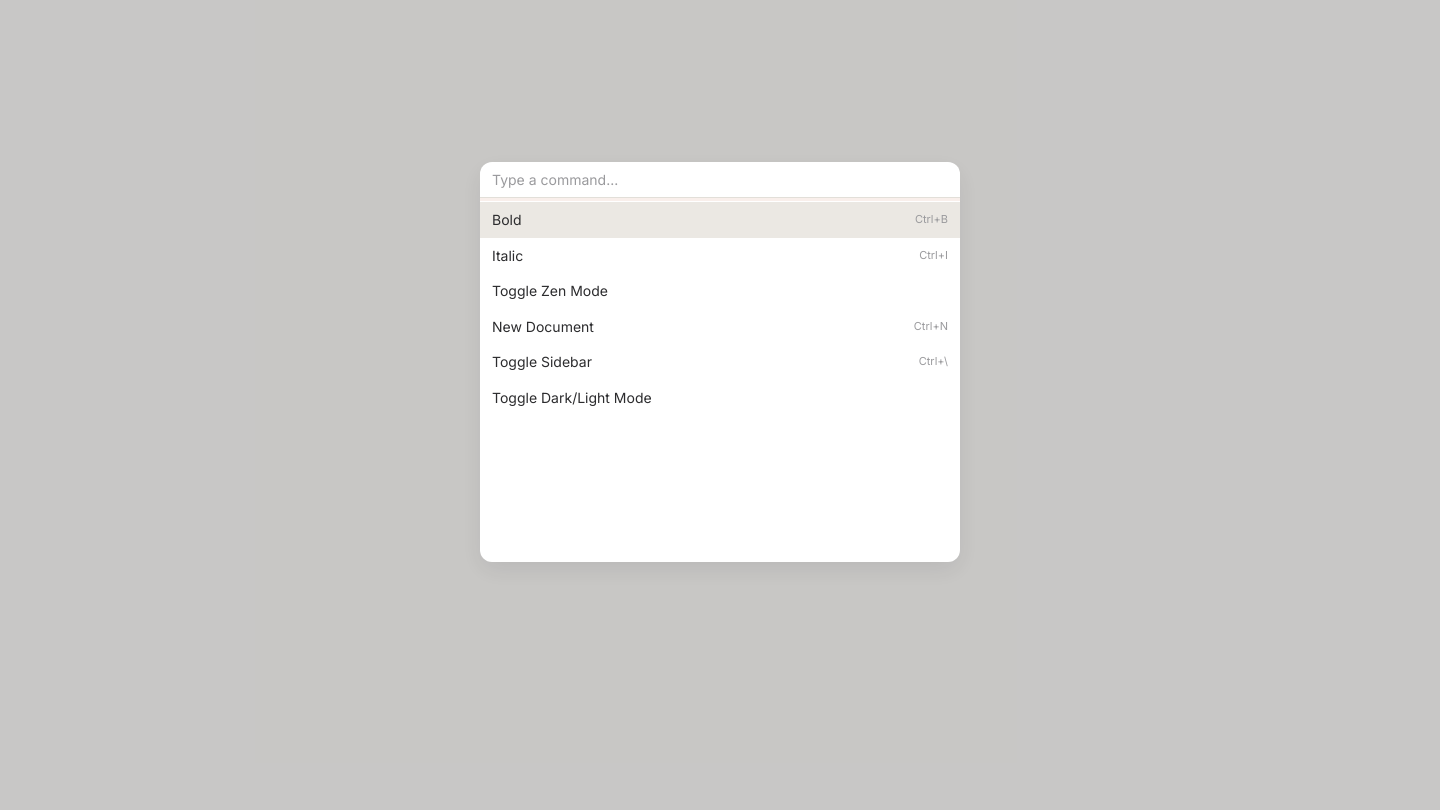
Test: CommandPalette › shows No results when filter matches nothing
In the field with placeholder "Type a command...": coordinates (720, 180) left=480, top=162, right=960, bottom=198, type "zzzzz"
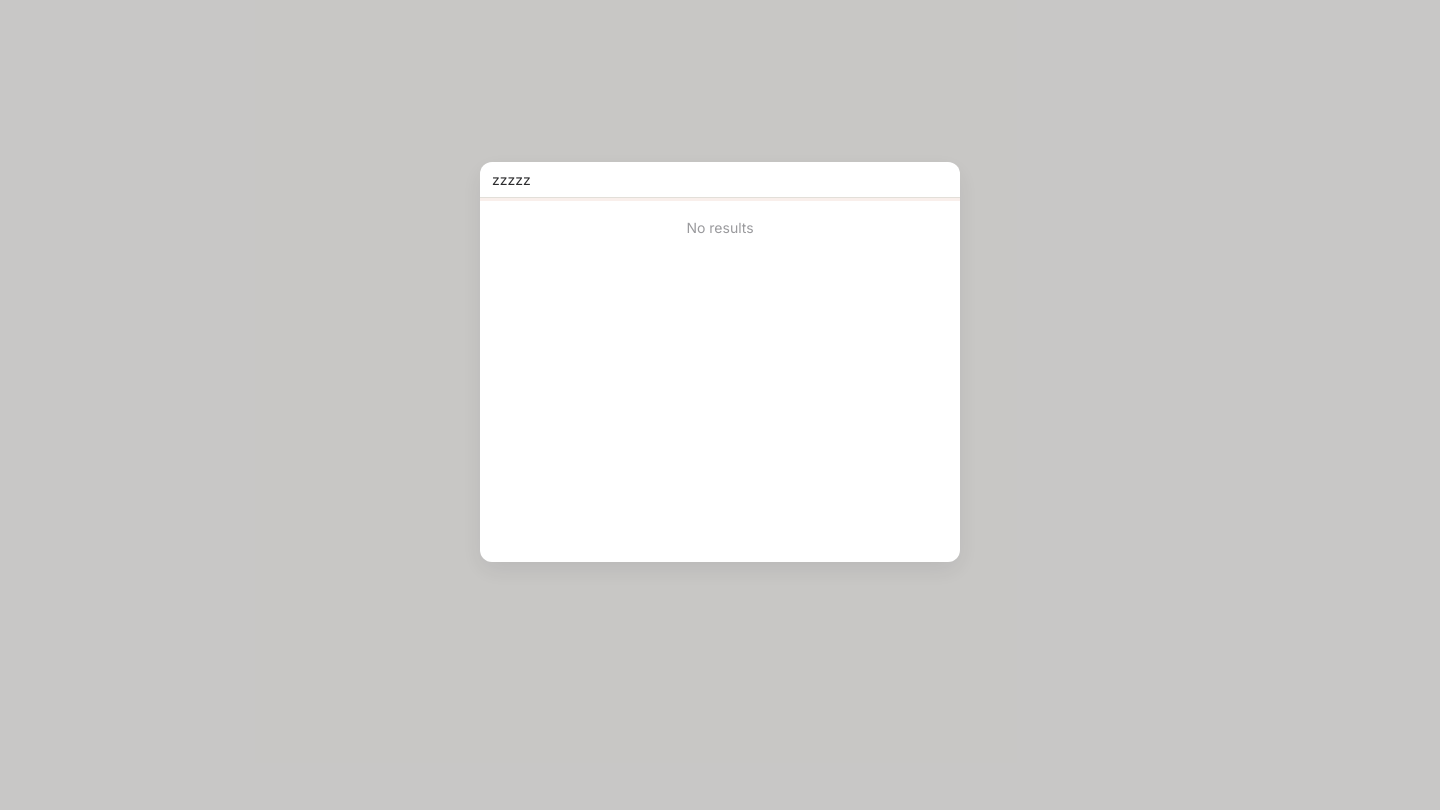
expect the list item "No results" is shown: met, box left=686, top=219, right=754, bottom=236
expect no list items with class "command-palette-item" are shown: met
